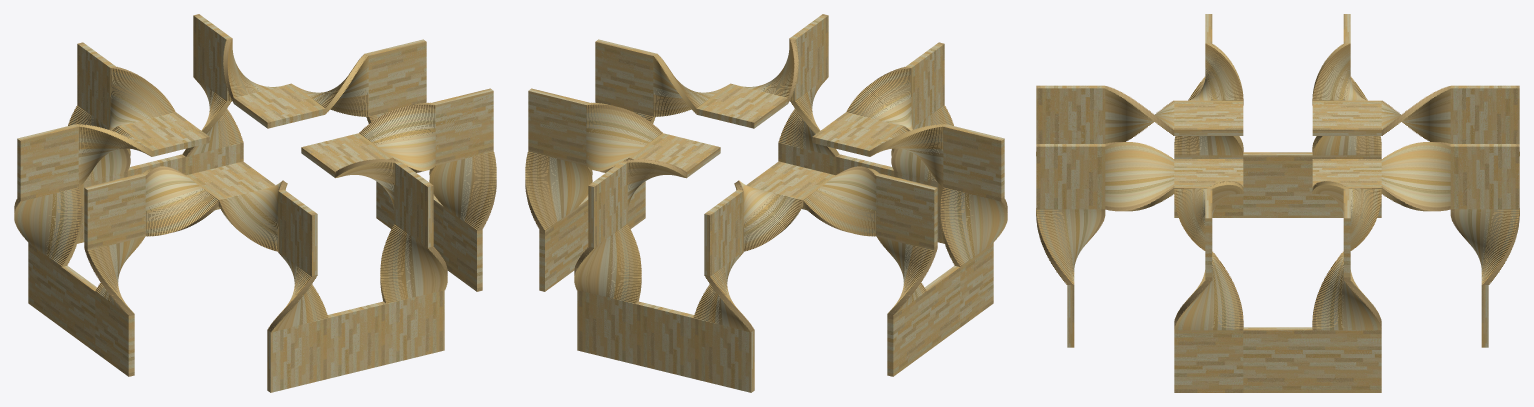
File: twist_fbx.fbx
3 views of the same model, side by side, from view 1: azimuth 30°, elevation 25°; view 2: azimuth 150°, elevation 25°; view 3: azimuth 270°, elevation 25° (orthographic). The views are drawn at different scales.
Parts seen in each view (by area): view 1: instance_21, instance_23, group_0.024, instance_10, instance_6, instance_4, instance_11, group_0.003, group_0.011, instance_7, group_0.004, group_0.002 (+27 smaller); view 2: instance_23, instance_21, group_0.005, instance_11, instance_14, instance_1, instance_10, group_0, group_0.023, instance_15, group_0.021, group_0.014 (+27 smaller); view 3: instance_17, instance_20, instance_8, instance_12, instance_16, instance_18, group_0.001, group_0.013, instance_0, instance_3, group_0, group_0.003 (+20 smaller).
Boxes of the visible parts, x1=… form: instance_21: x1=17, y1=124, x2=78, y2=201; instance_23: x1=84, y1=173, x2=145, y2=250; group_0.024: x1=14, y1=124, x2=81, y2=262; instance_10: x1=433, y1=88, x2=493, y2=165; instance_6: x1=327, y1=301, x2=386, y2=378; instance_4: x1=267, y1=318, x2=328, y2=392; instance_11: x1=365, y1=39, x2=426, y2=116; group_0.003: x1=429, y1=102, x2=496, y2=226; group_0.011: x1=380, y1=227, x2=447, y2=303; instance_7: x1=386, y1=290, x2=444, y2=364; group_0.004: x1=144, y1=166, x2=265, y2=236; group_0.002: x1=334, y1=102, x2=433, y2=178; instance_23: x1=943, y1=124, x2=1004, y2=201; instance_21: x1=876, y1=173, x2=937, y2=250; group_0.005: x1=940, y1=124, x2=1007, y2=262; instance_11: x1=528, y1=88, x2=588, y2=165; instance_14: x1=635, y1=301, x2=694, y2=378; instance_1: x1=693, y1=318, x2=754, y2=392; instance_10: x1=595, y1=39, x2=656, y2=116; group_0: x1=525, y1=102, x2=592, y2=226; group_0.023: x1=574, y1=227, x2=641, y2=303; instance_15: x1=577, y1=290, x2=635, y2=364; group_0.021: x1=756, y1=166, x2=877, y2=236; group_0.014: x1=588, y1=102, x2=687, y2=178; instance_17: x1=1243, y1=327, x2=1312, y2=392; instance_20: x1=1243, y1=152, x2=1312, y2=217; instance_8: x1=1036, y1=144, x2=1105, y2=209; instance_12: x1=1450, y1=144, x2=1519, y2=209; instance_16: x1=1174, y1=330, x2=1243, y2=392; instance_18: x1=1312, y1=330, x2=1381, y2=392; group_0.001: x1=1036, y1=142, x2=1170, y2=212; group_0.013: x1=1385, y1=142, x2=1519, y2=212; instance_0: x1=1450, y1=85, x2=1519, y2=143; instance_3: x1=1036, y1=85, x2=1105, y2=143; group_0: x1=1312, y1=188, x2=1381, y2=327; group_0.003: x1=1174, y1=188, x2=1243, y2=327.
Bounding box in the file's own units: 700 × 300 × 700.
17 materials, 17 textured.
